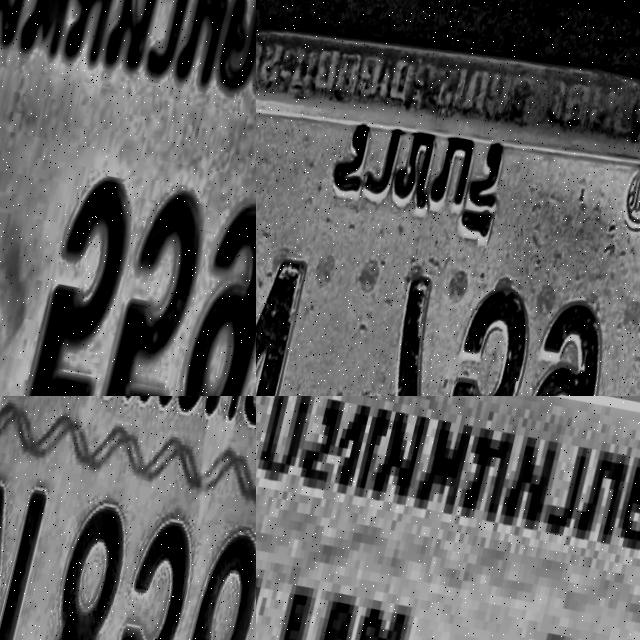license-plate: (256, 0, 640, 396), (0, 0, 256, 396), (256, 396, 640, 640), (0, 396, 256, 640)
